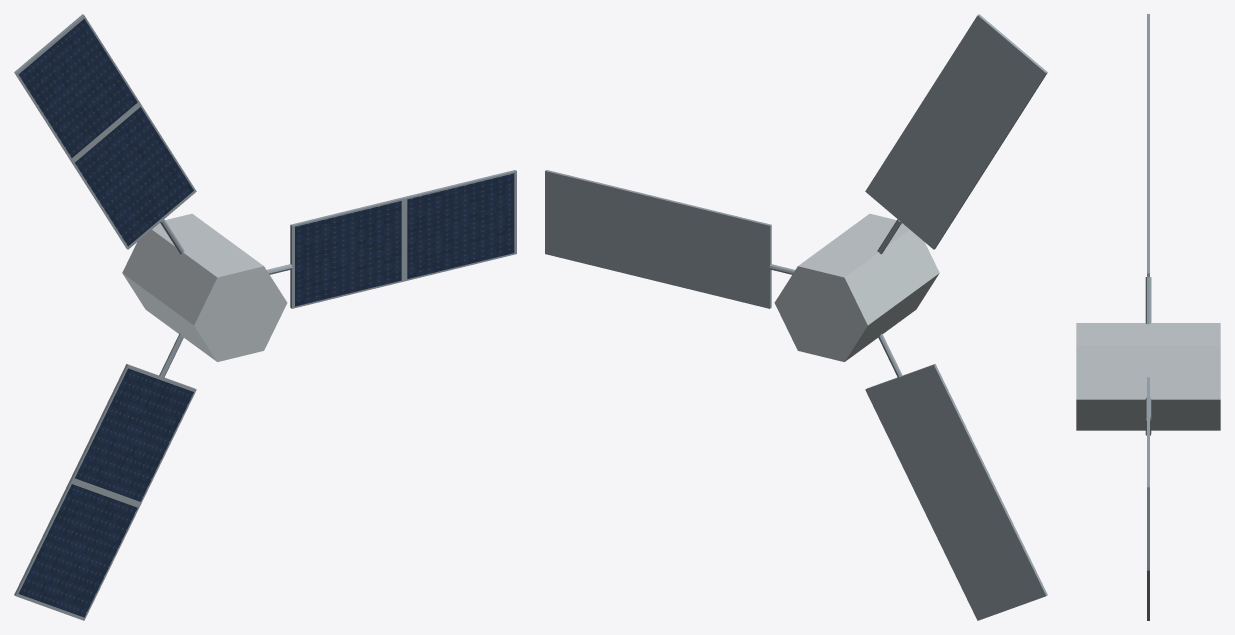
Rendered from ref-lkw-43034.glb.
3 views of the same model, side by side, from view 1: azimuth 30°, elevation 25°; view 2: azimuth 150°, elevation 25°; view 3: azimuth 270°, elevation 25° (orthographic).
Visible parts, largest first — view 1: Photovoltaic laminates (×6), Spacecraft body, Array frame (×6); view 2: Array frame (×6), Spacecraft body; view 3: Spacecraft body, Array frame (×3), Solar array drive.
Boxes of the visible parts, x1,y1,x2,y2 form: Photovoltaic laminates (×6): (18, 19, 514, 617); Spacecraft body: (122, 213, 287, 361); Array frame (×6): (14, 14, 516, 620); Array frame (×6): (545, 14, 1047, 620); Spacecraft body: (774, 213, 939, 361); Spacecraft body: (1076, 323, 1220, 430); Array frame (×3): (1147, 14, 1149, 570); Solar array drive: (1145, 277, 1151, 324).
Size of the model in its own units: 8.05 by 9.3 by 2.
Materials: 3 (1 with a texture image).
